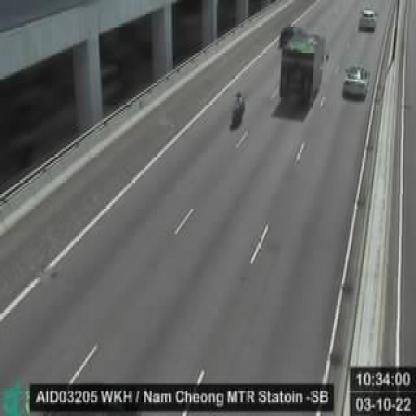Car: (343, 64, 371, 97), (357, 7, 377, 31)
Truck: (278, 24, 324, 106)
